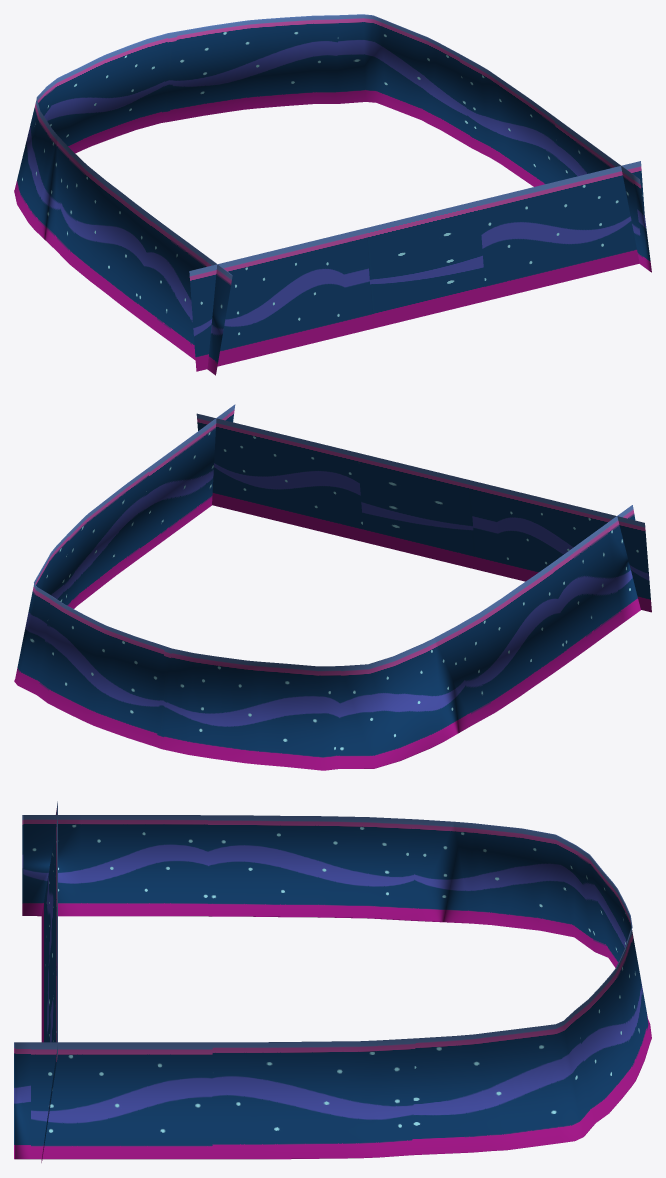
Rendered from discoWallSmaller.fbx.
3 renders of one model, top to bottom at view 1: azimuth 30°, elevation 25°; view 2: azimuth 150°, elevation 25°; view 3: azimuth 270°, elevation 25°, orthographic. The views are drawn at different scales.
Parts seen in each view (by area): view 1: disco_seina, takasein__; view 2: disco_seina, takasein__; view 3: disco_seina, takasein__.
Boxes of the visible parts, <box> form: disco_seina: <box>14,14,651,375</box>; takasein__: <box>189,161,644,371</box>; disco_seina: <box>14,404,640,770</box>; takasein__: <box>196,413,651,612</box>; disco_seina: <box>14,815,651,1159</box>; takasein__: <box>41,801,57,1162</box>.
Bounding box in the file's own units: 46.46 × 9.44 × 49.29.
2 materials, 2 textured.
